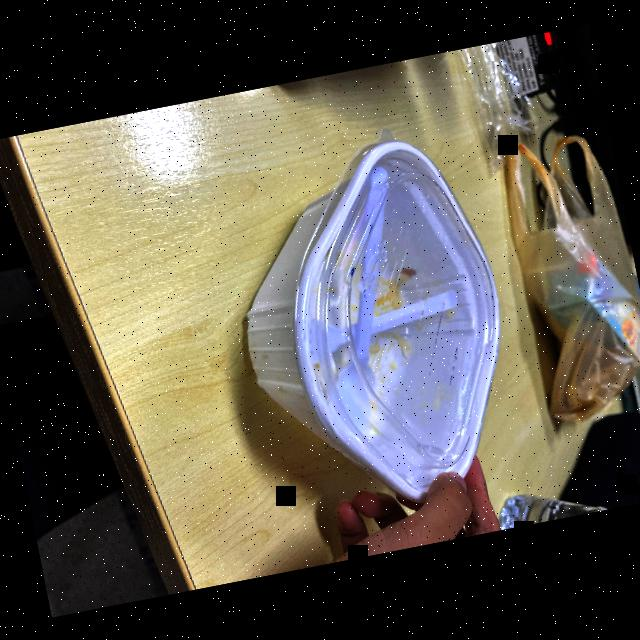plastic_box: (215, 115, 548, 528)
